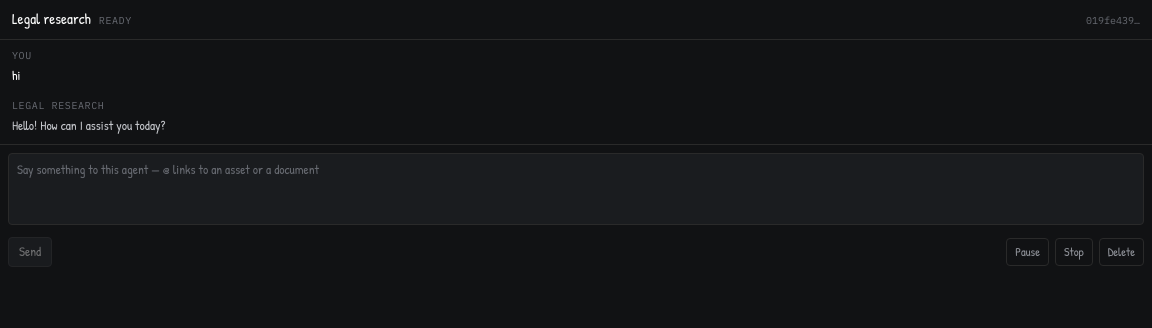
Test: deleting a work session › keeping it sends nothing
The width and height of the screenshot is (1152, 328).
Click the button with test id "session-delete".
click(1121, 252)  # box top-left (1099, 238), bottom-right (1144, 266)
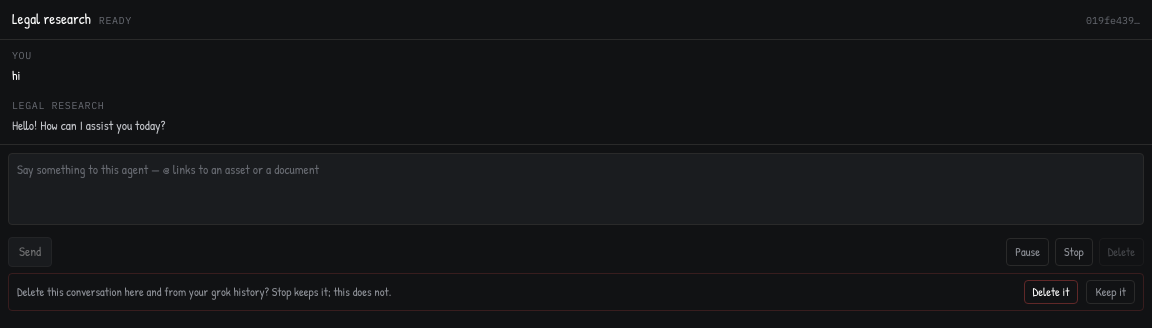
Click the button with test id "session-delete-no".
click(1111, 292)  # box top-left (1086, 280), bottom-right (1135, 304)
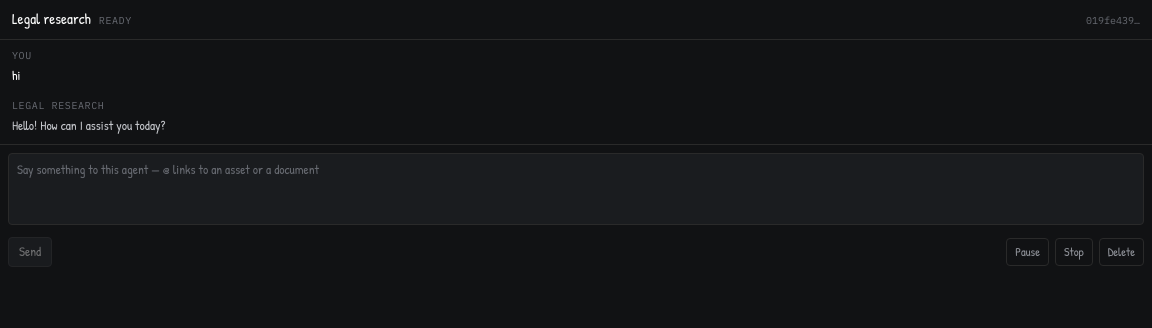
Check: the element with test id "session-delete-confirm" is gone
